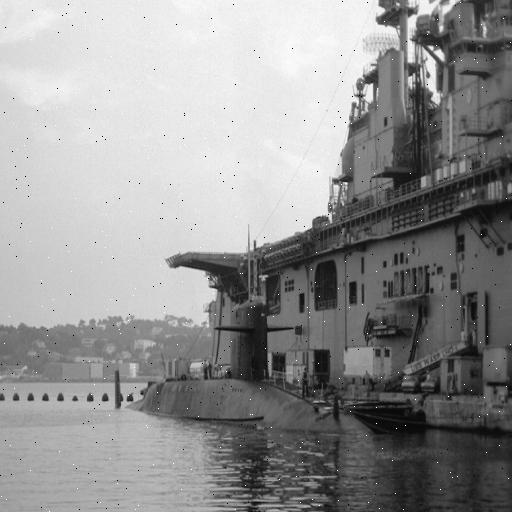submarine: (115, 251, 373, 440)
